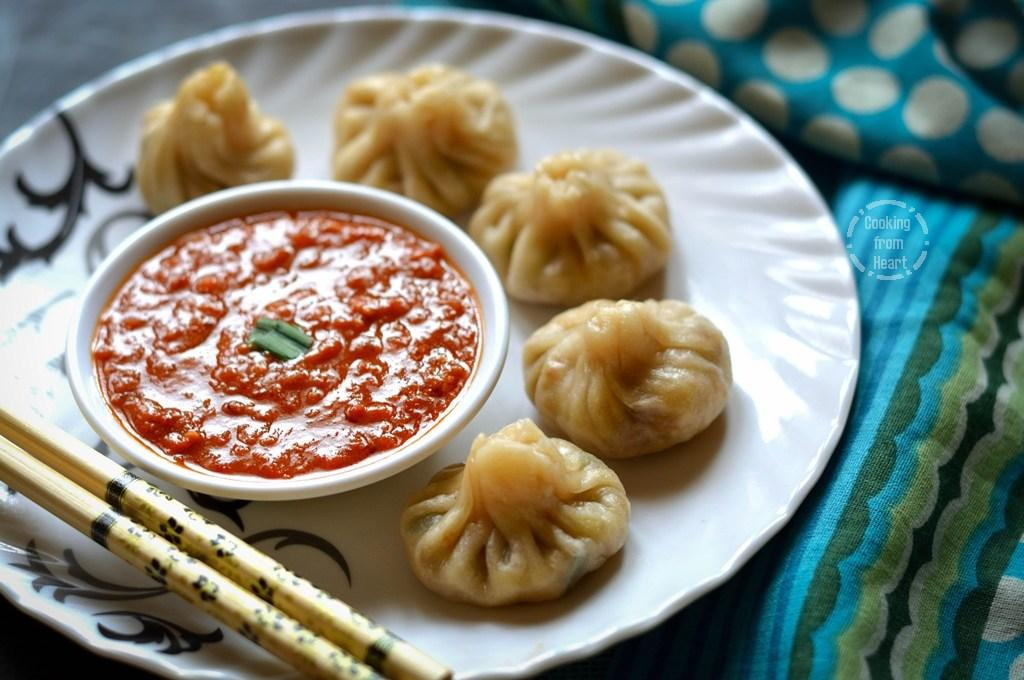momos: (400, 418, 630, 606), (524, 300, 732, 457), (468, 150, 672, 305), (332, 64, 516, 216), (136, 62, 294, 214)
